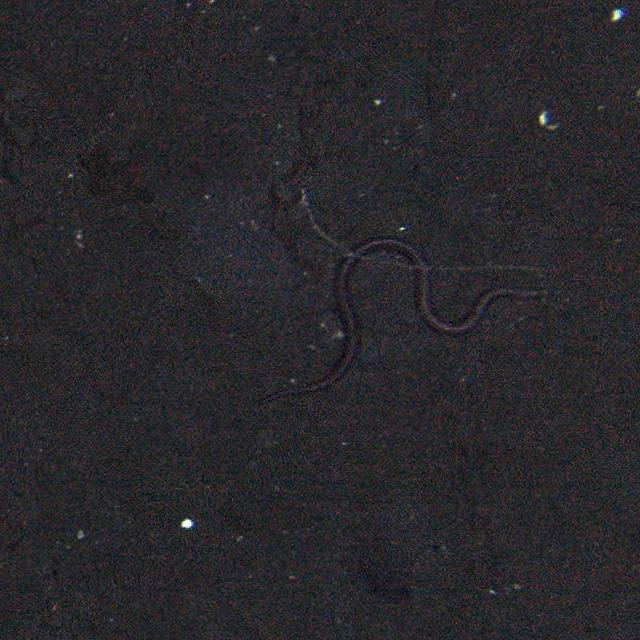eel: (252, 239, 540, 407)
